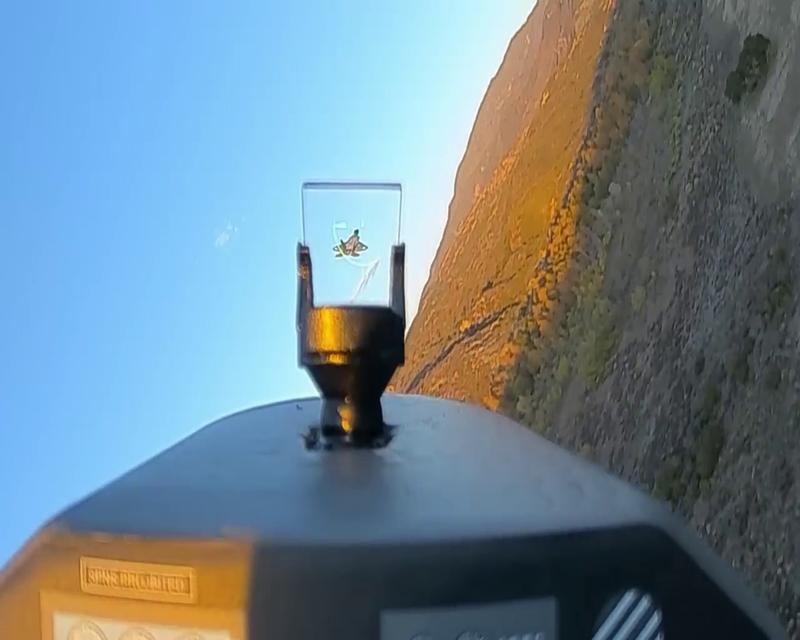UAV: (332, 228, 369, 258)
